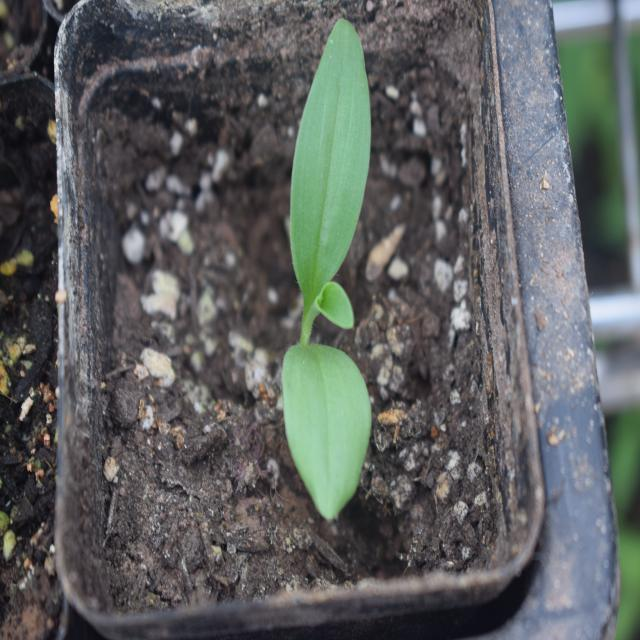Common Dayflower: (277, 14, 388, 515)
